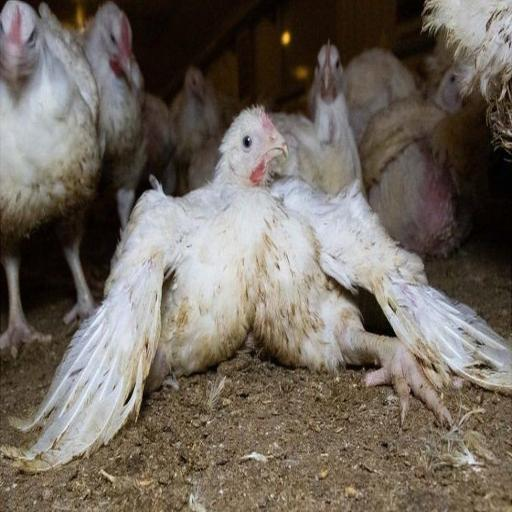healthy: (233, 101, 281, 180)
